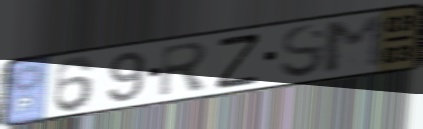6: (52, 54, 96, 114)
9: (104, 49, 149, 104)
M: (323, 12, 387, 76)
R: (156, 40, 211, 99)
S: (278, 23, 329, 80)
Z: (214, 31, 263, 92)
